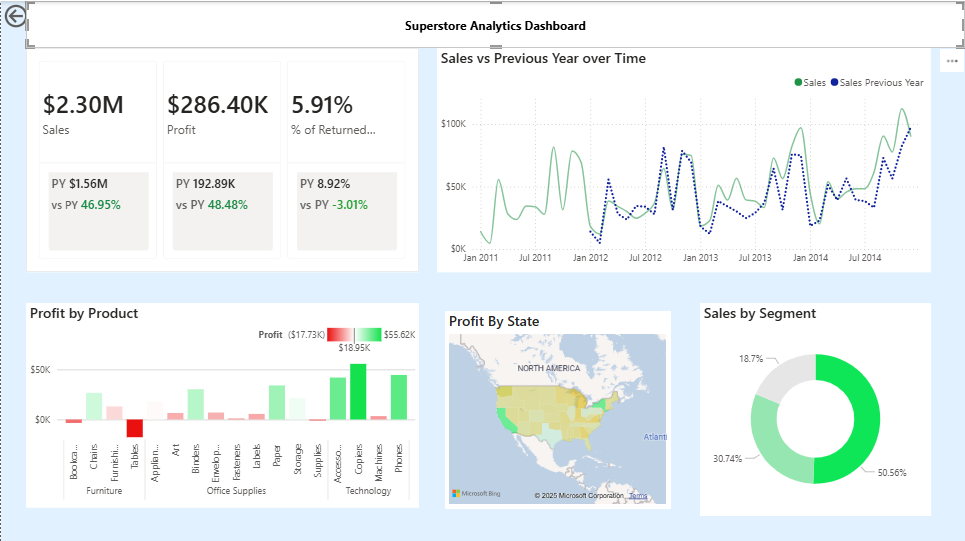

The page's visual inventory and layout, read from the dashboard file:
{"tool":"powerbi","page":{"name":"Page 1","canvas":[1280,720],"ordinal":0},"visuals":[{"type":"cardVisual","fields":{"Data":["Key Measures.Sales","Key Measures.Profit","Key Measures.% of Returned Orders"]},"box":[11,43,422,250],"z":0},{"type":"shape","box":[0,0,914,35],"z":1000},{"type":"lineChart","title":"Sales vs Previous Year over Time","fields":{"Y":["Key Measures.Sales","Key Measures.Sales Previous Year"],"Category":["Date Table.Start of Month"]},"box":[457,43,422,250],"z":2000},{"type":"columnChart","title":"Profit by Product","fields":{"Category":["Orders.Category","Orders.Sub-Category"],"Y":["Key Measures.Profit"]},"box":[11,297,376,249],"z":3000},{"type":"filledMap","title":"Profit By State","fields":{"Category":["Orders.State"]},"box":[405,297,219,228],"z":4000},{"type":"actionButton","box":[0,0,100,40],"z":5000},{"type":"donutChart","title":"Sales by Segment","fields":{"Category":["Orders.Segment"],"Y":["Key Measures.Sales"]},"box":[640,297,241,228],"z":5001}]}

Visuals, with their boxes on the page's 1280x720 design canvas (x1, y1, x2, y2). These are canvas units, not pixel positions in the 965x541 screenshot, which may show the page scaled, cropped or inside an application window:
cardVisual - Key Measures.Sales x Key Measures.Profit: <box>11,43,433,293</box>
shape: <box>0,0,914,35</box>
"Sales vs Previous Year over Time" lineChart: <box>457,43,879,293</box>
"Profit by Product" columnChart: <box>11,297,387,546</box>
"Profit By State" filledMap: <box>405,297,624,525</box>
actionButton: <box>0,0,100,40</box>
"Sales by Segment" donutChart: <box>640,297,881,525</box>
